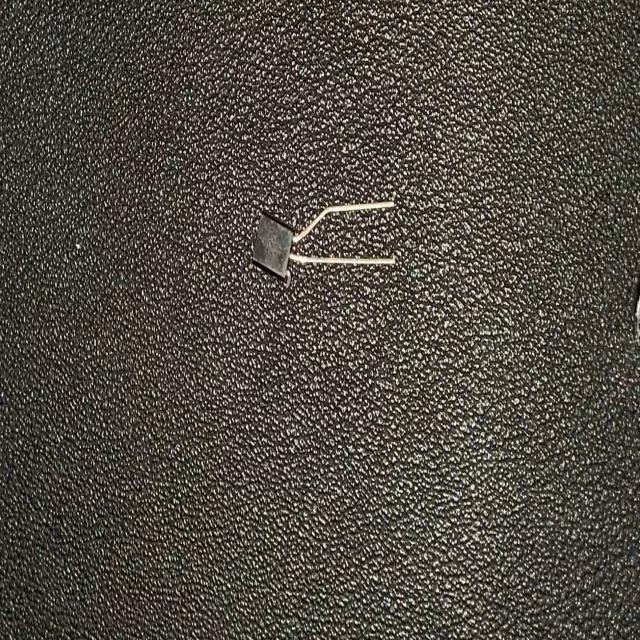missing-leg: (251, 196, 396, 292)
